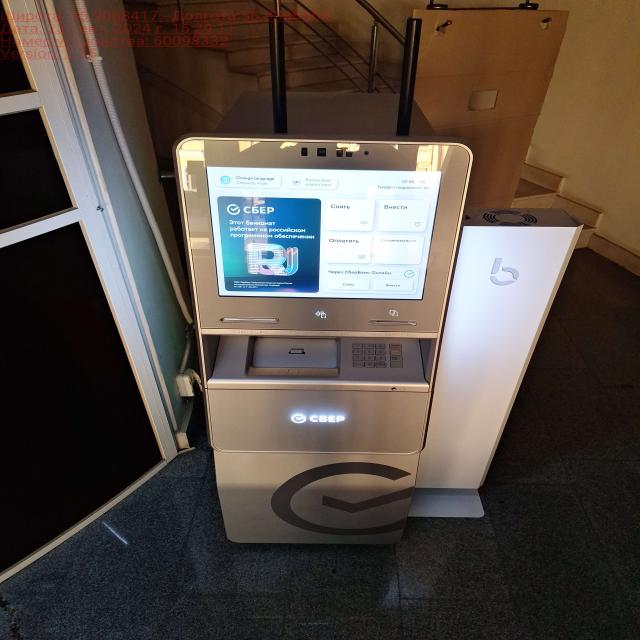bank: (171, 135, 475, 556)
